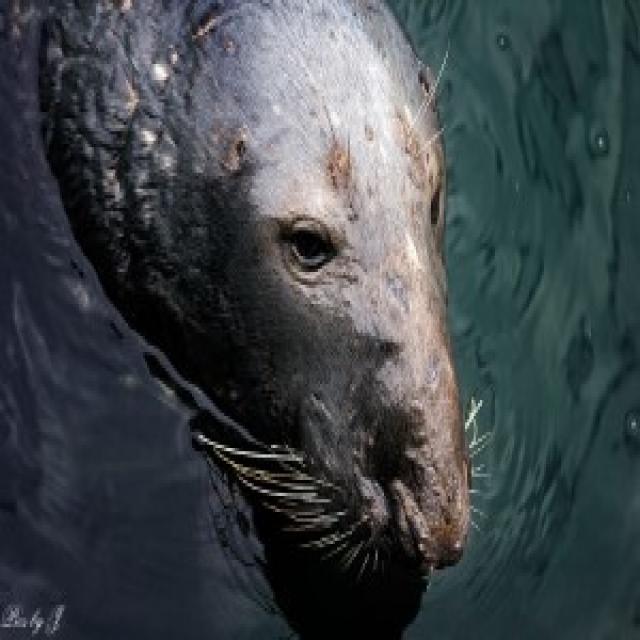Seal: (32, 0, 485, 596)
